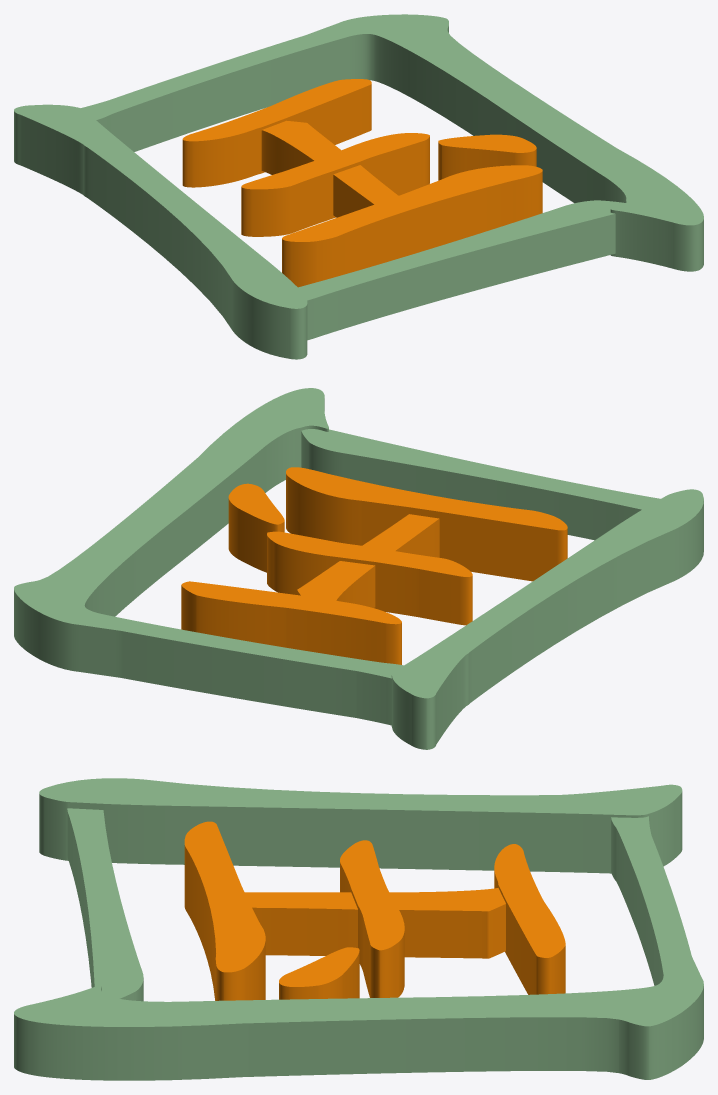
The model's file is hanzi89.fbx.
3 renders of one model, top to bottom at view 1: azimuth 30°, elevation 25°; view 2: azimuth 150°, elevation 25°; view 3: azimuth 270°, elevation 25°, orthographic. The views are drawn at different scales.
Visible parts, largest first — view 1: Curve.001, Curve, Curve.007, Curve.005, Curve.003, Curve.002, Curve.004, Curve.006; view 2: Curve.001, Curve, Curve.005, Curve.007, Curve.002, Curve.003, Curve.004, Curve.006; view 3: Curve.001, Curve, Curve.004, Curve.005, Curve.007, Curve.002, Curve.003, Curve.006.
Part boxes in pixels (x1=…): Curve.001: x1=81, y1=14, x2=703, y2=271; Curve: x1=14, y1=104, x2=307, y2=359; Curve.007: x1=298, y1=200, x2=625, y2=340; Curve.005: x1=282, y1=165, x2=542, y2=287; Curve.003: x1=241, y1=133, x2=429, y2=236; Curve.002: x1=182, y1=79, x2=371, y2=187; Curve.004: x1=261, y1=120, x2=398, y2=217; Curve.006: x1=438, y1=134, x2=536, y2=180; Curve.001: x1=14, y1=388, x2=403, y2=725; Curve: x1=391, y1=489, x2=703, y2=749; Curve.005: x1=286, y1=467, x2=567, y2=581; Curve.007: x1=301, y1=429, x2=660, y2=540; Curve.002: x1=181, y1=581, x2=401, y2=664; Curve.003: x1=267, y1=531, x2=472, y2=625; Curve.004: x1=297, y1=514, x2=439, y2=607; Curve.006: x1=228, y1=483, x2=284, y2=572; Curve.001: x1=14, y1=816, x2=703, y2=1080; Curve: x1=39, y1=778, x2=682, y2=873; Curve.004: x1=244, y1=888, x2=505, y2=958; Curve.005: x1=184, y1=821, x2=265, y2=1000; Curve.007: x1=67, y1=808, x2=143, y2=1001; Curve.002: x1=494, y1=844, x2=565, y2=994; Curve.003: x1=340, y1=840, x2=404, y2=997; Curve.006: x1=279, y1=947, x2=359, y2=999.
Size of the model in its own units: 19.11 by 22.63 by 2.28.
